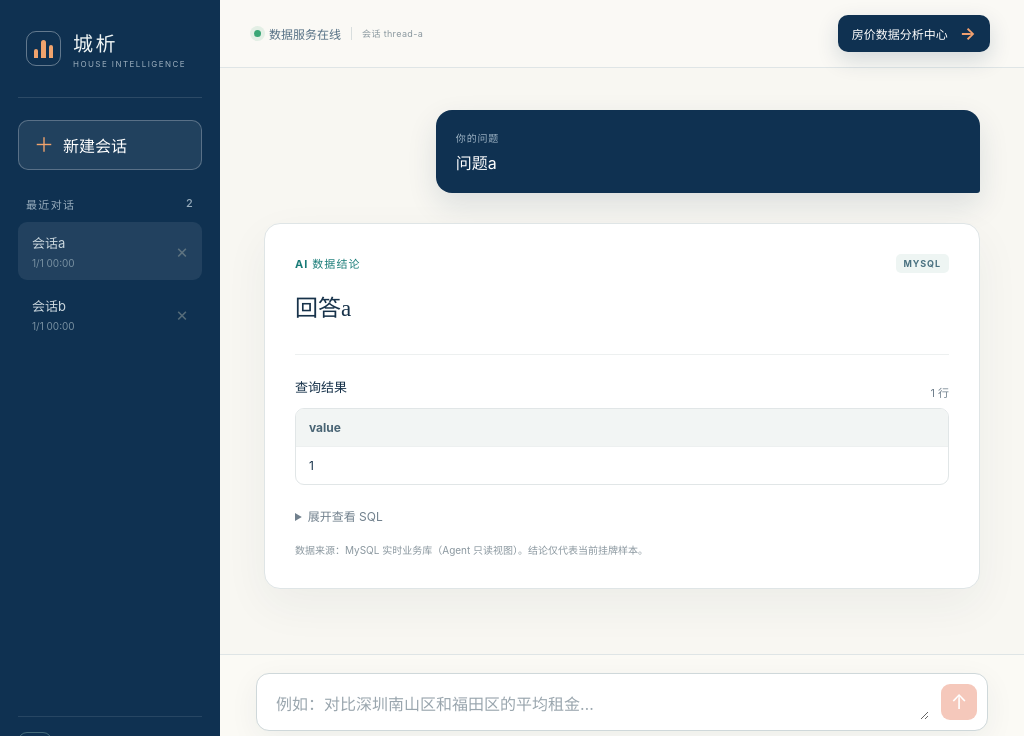
Test: App conversations › writes an asynchronous response to its originating conversation
The width and height of the screenshot is (1024, 736).
Step 1. Type "异步问题" into the text box with placeholder "例如：对比深圳南山区和福田区的平均租金…" → (602, 705), box [274,690,929,720]
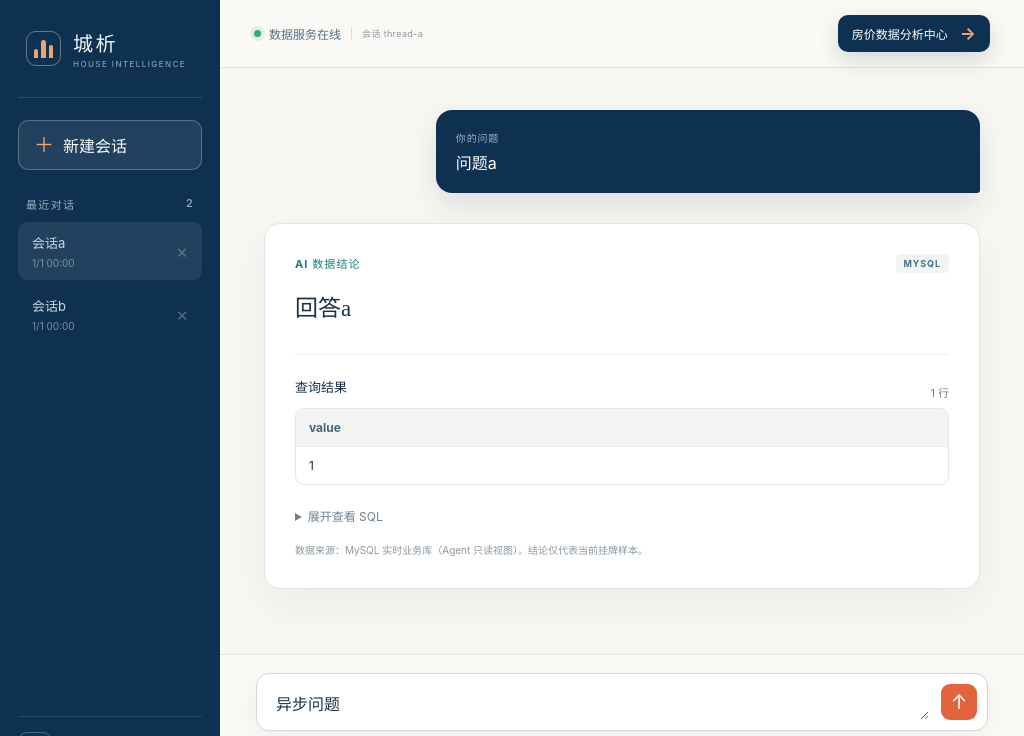
Step 2. Click the button named "发送问题" → (959, 702), box [941,684,977,720]
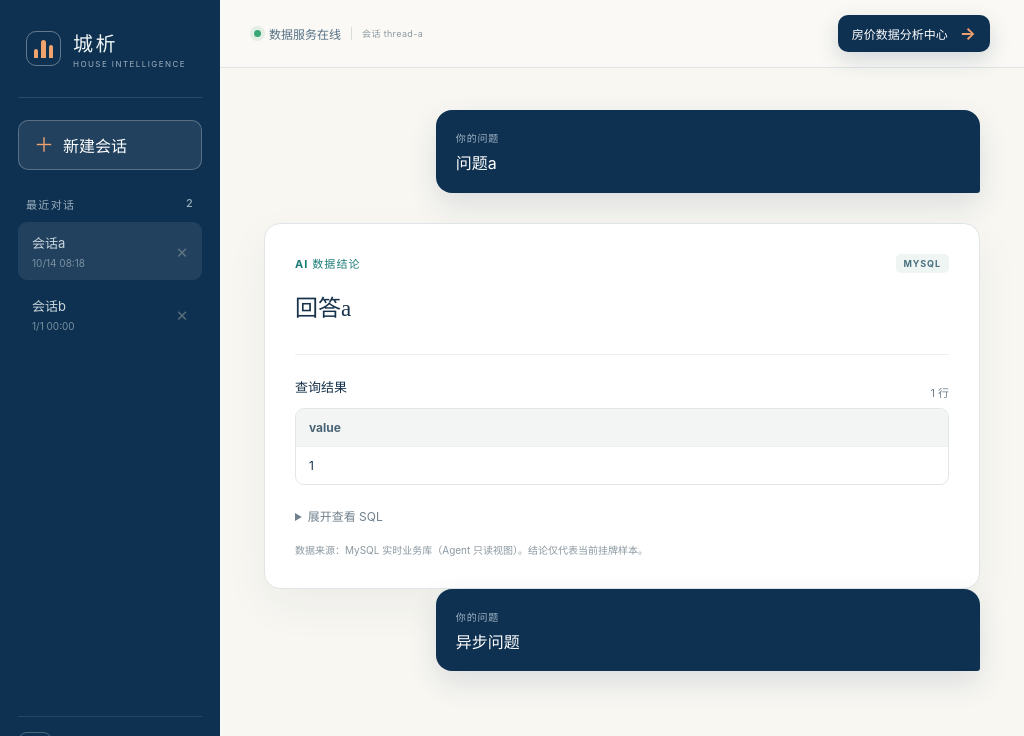
Step 3. Click the text "会话b" → (49, 306), box [32,298,66,314]
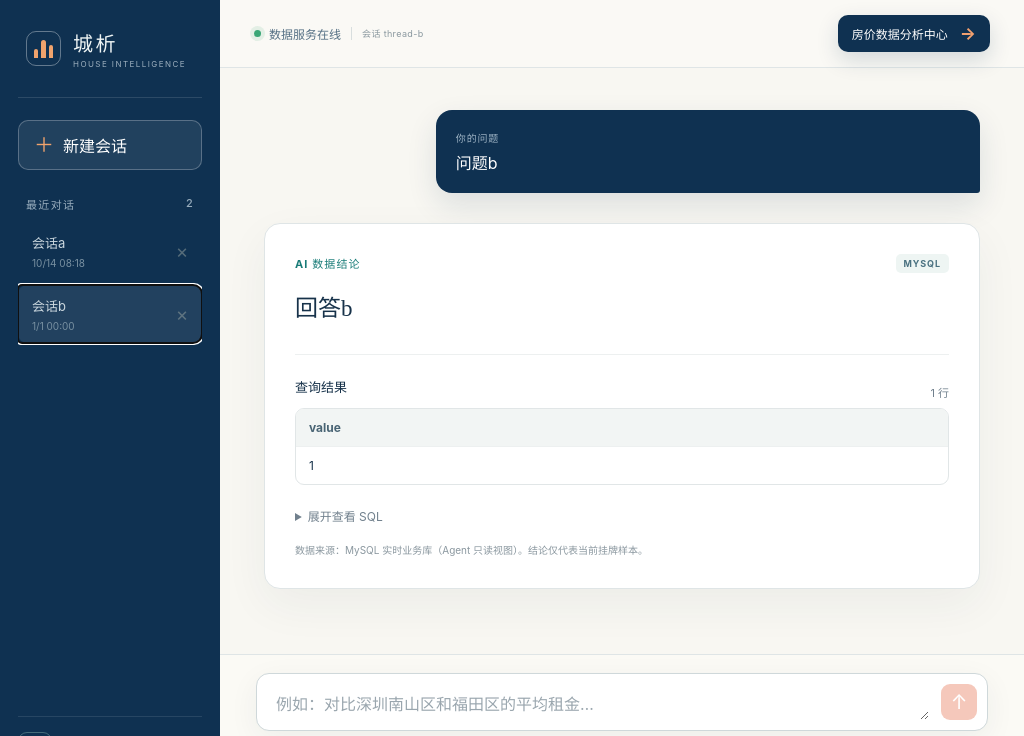
Check: the text "异步回答" is not shown
Step 4. Click the text "会话a" → (49, 243), box [32,235,65,251]
(page scrolled)
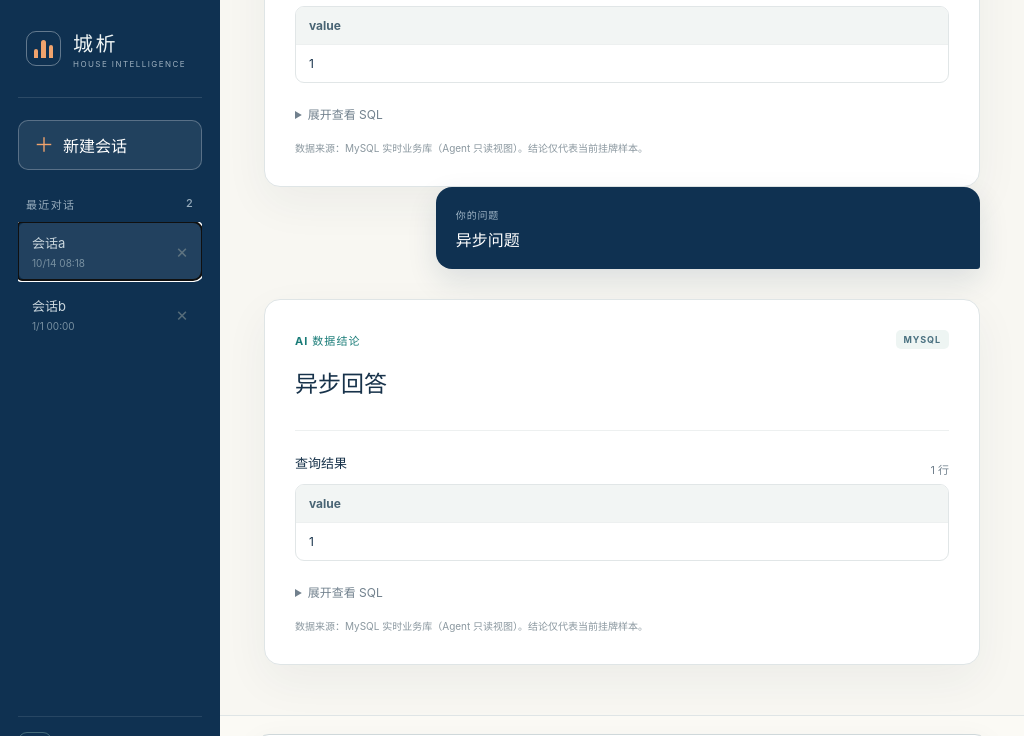
Check: the heading "异步回答" is shown, box [295,372,387,397]
